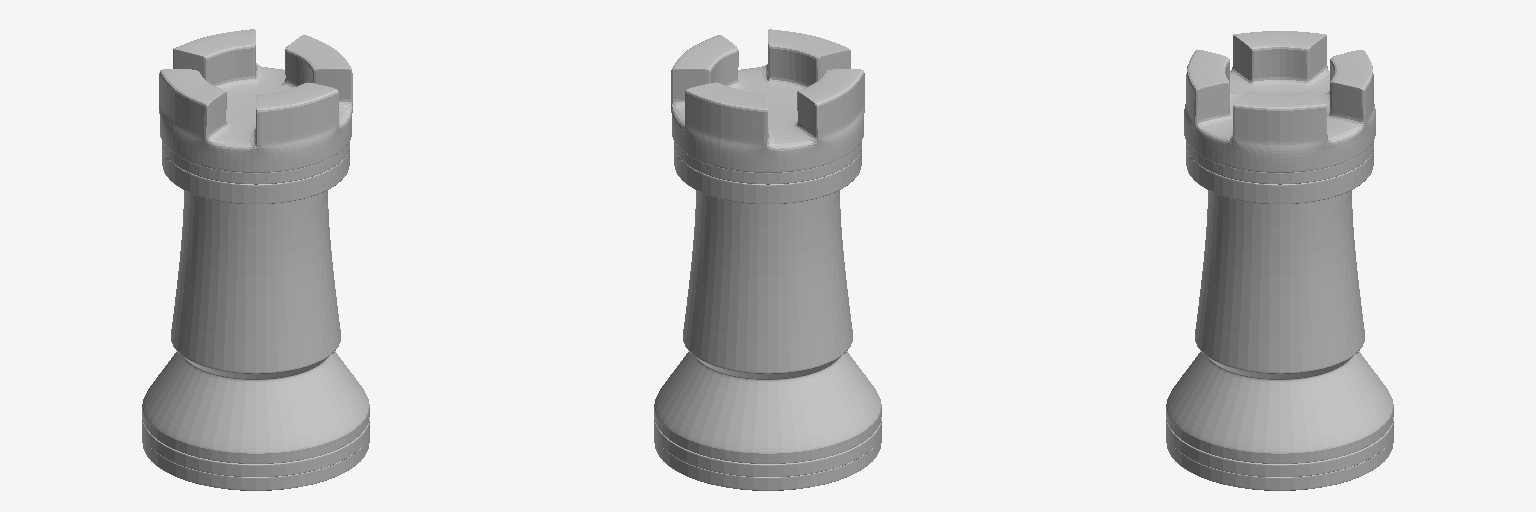
The model's file is rook.obj.
3 views of the same model, side by side, from view 1: azimuth 30°, elevation 25°; view 2: azimuth 150°, elevation 25°; view 3: azimuth 270°, elevation 25° (orthographic).
Parts seen in each view (by area): view 1: Castle_W1_Castle_White.002; view 2: Castle_W1_Castle_White.002; view 3: Castle_W1_Castle_White.002.
Boxes of the visible parts, x1=… form: Castle_W1_Castle_White.002: x1=142, y1=29, x2=369, y2=490; Castle_W1_Castle_White.002: x1=654, y1=29, x2=881, y2=490; Castle_W1_Castle_White.002: x1=1166, y1=31, x2=1393, y2=490.
Bounding box in the file's own units: 0.0537 × 0.0971 × 0.0537.